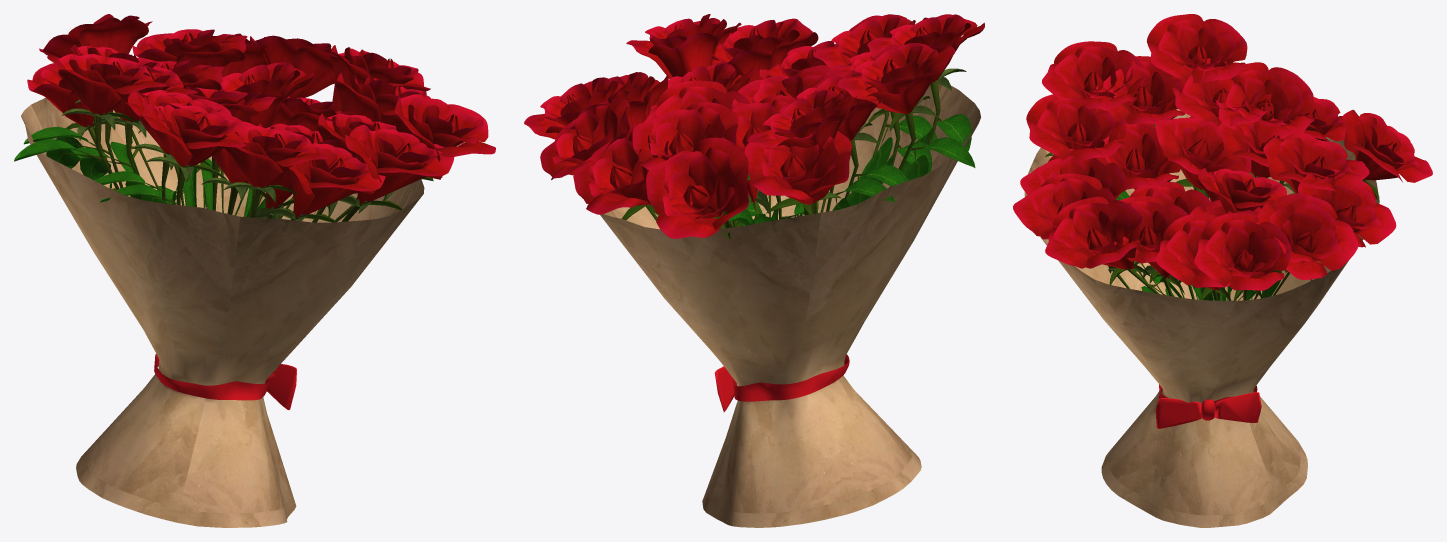
The model's file is bouquet_rose-red_gardenbee.glb.
3 renders of one model, left to right at view 1: azimuth 30°, elevation 25°; view 2: azimuth 150°, elevation 25°; view 3: azimuth 270°, elevation 25°, orthographic. The views are drawn at different scales.
Parts seen in each view (by area): view 1: Object_136, Object_8, Object_7, Object_6, Object_4, Object_5, Object_137; view 2: Object_136, Object_8, Object_5, Object_7, Object_6, Object_4, Object_137; view 3: Object_136, Object_7, Object_8, Object_5, Object_6, Object_137, Object_4.
Boxes of the visible parts, x1,y1,x2,y2 form: Object_136: (21,97,424,527); Object_8: (58,17,458,217); Object_7: (90,14,495,216); Object_6: (27,32,474,207); Object_4: (14,99,433,222); Object_5: (32,29,488,204); Object_137: (154,354,296,409); Object_136: (600,84,980,527); Object_8: (560,17,984,213); Object_5: (524,17,941,238); Object_7: (540,14,977,213); Object_6: (545,31,953,229); Object_4: (618,68,975,240); Object_137: (714,354,849,411); Object_136: (1024,109,1378,527); Object_7: (1013,25,1402,288); Object_8: (1026,14,1401,274); Object_5: (1041,45,1432,290); Object_6: (1074,19,1414,290); Object_137: (1155,384,1261,428); Object_4: (1045,124,1379,302).
Size of the model in its own units: 27.31 by 29.2 by 26.44.
Materials: 7 (6 with a texture image).
